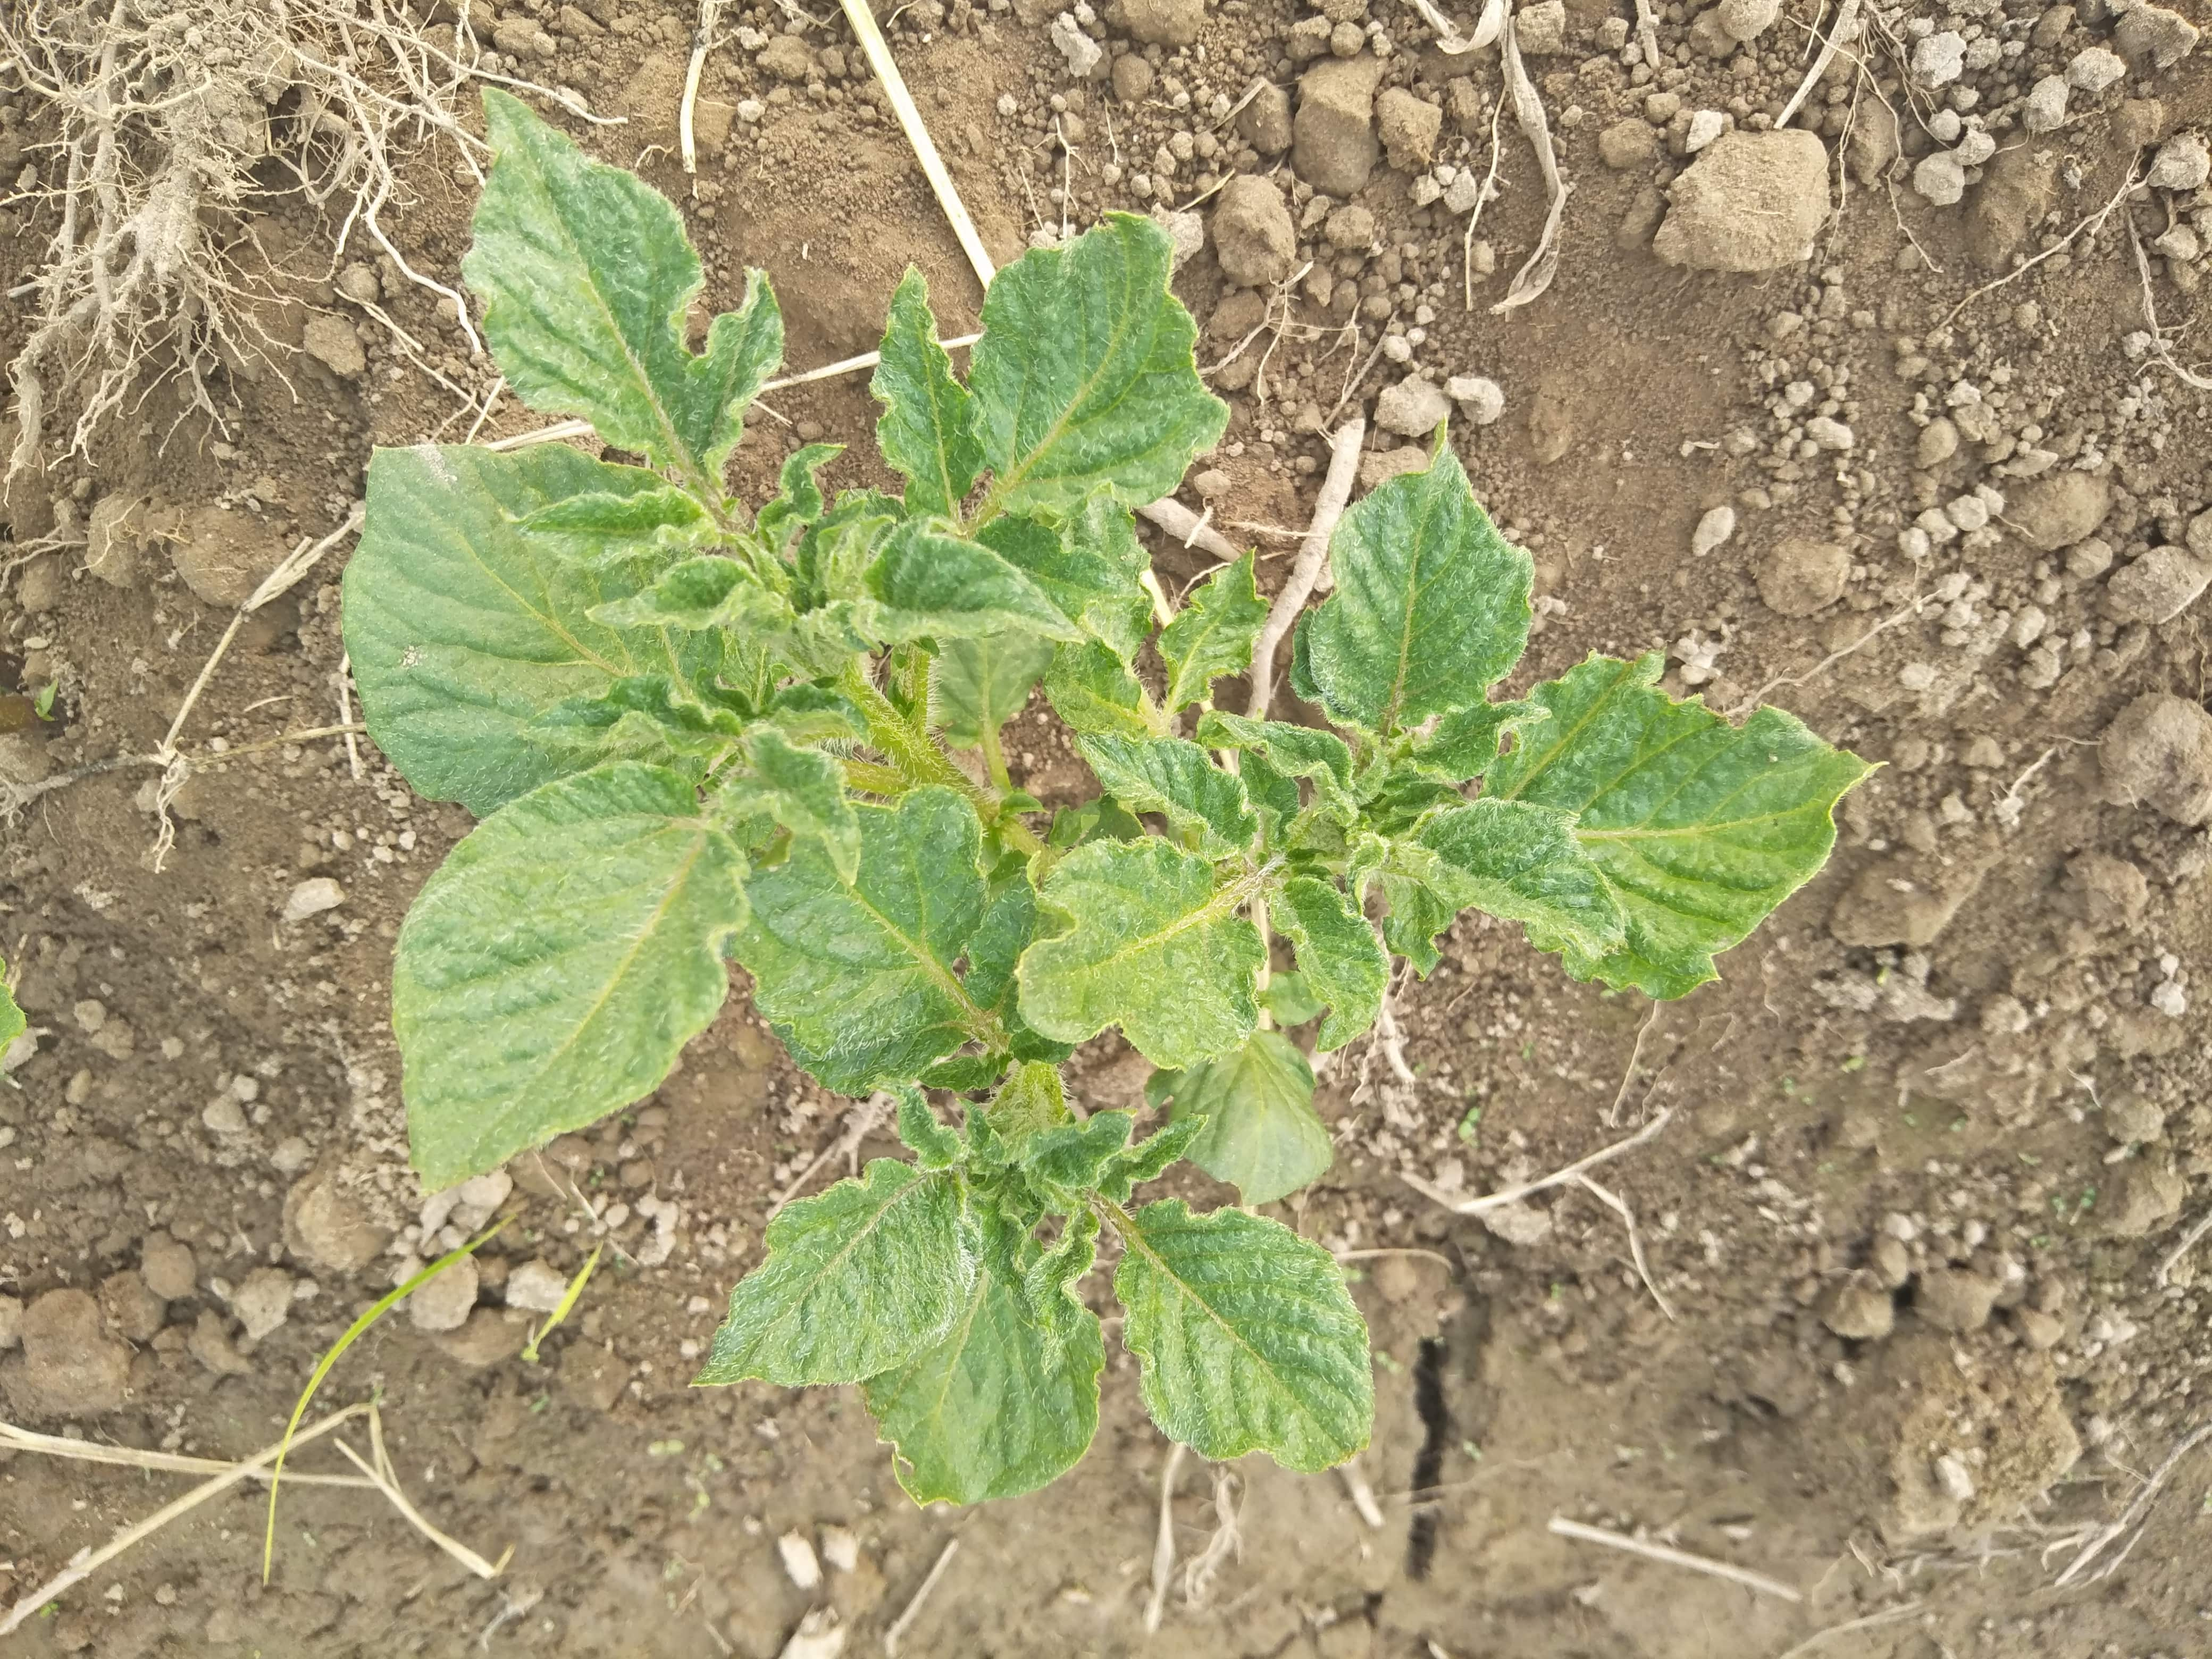daun: (395, 753, 737, 1202), (343, 446, 745, 810), (1486, 641, 1876, 999), (455, 89, 786, 493), (737, 781, 1007, 1091), (981, 221, 1217, 495), (1308, 453, 1529, 741), (700, 1157, 967, 1392), (892, 1213, 1103, 1504), (1125, 1216, 1367, 1464), (1021, 833, 1261, 1065), (1397, 796, 1641, 955), (1050, 694, 1249, 852), (869, 272, 984, 516), (855, 535, 1080, 655), (1153, 538, 1264, 685), (587, 549, 796, 626), (1021, 1094, 1136, 1183)
